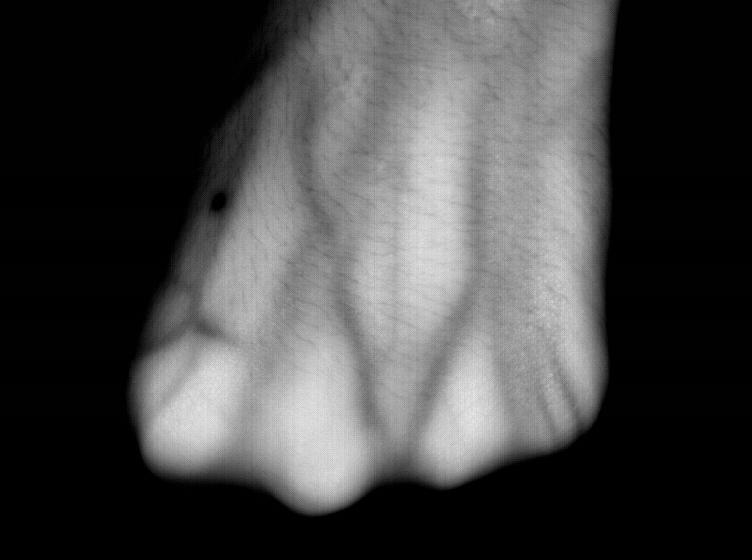Vein: (292, 89, 382, 424), (412, 112, 495, 423)
